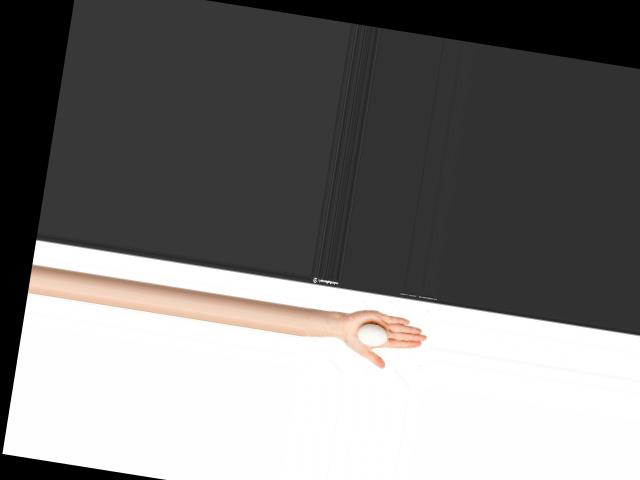egg: (356, 322, 389, 347)
